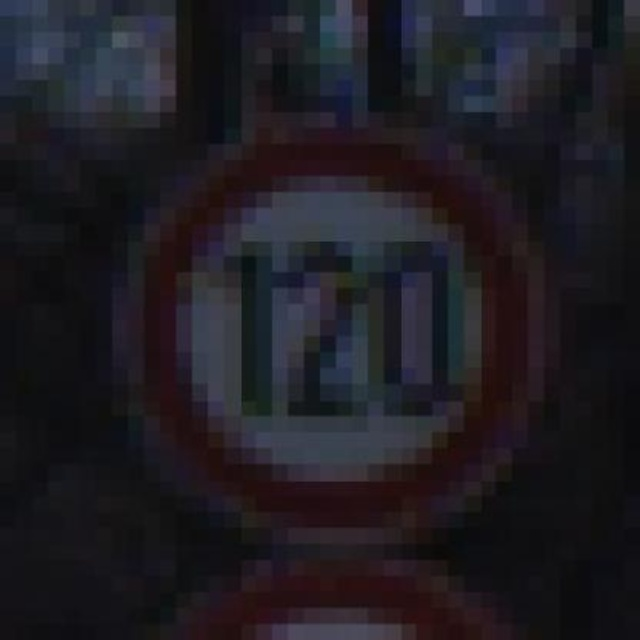Tốc độ tối đa cho phép 120km/h: (143, 133, 536, 539)
